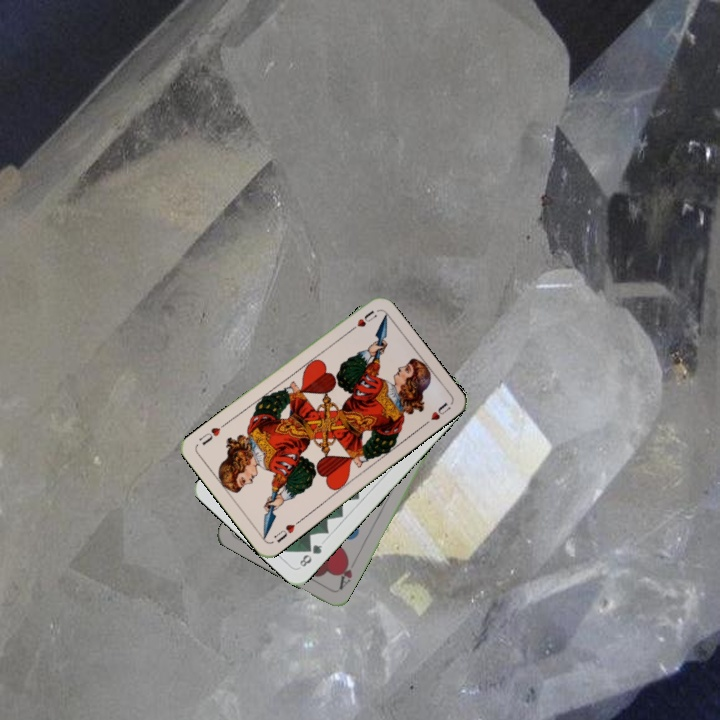G8: (295, 540, 325, 570)
HA: (335, 554, 355, 592)
HU: (344, 306, 380, 335), (270, 516, 303, 545)
